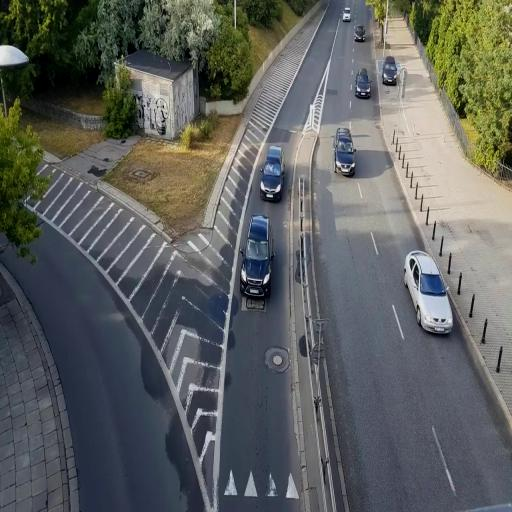vehicle: (403, 250, 453, 336), (241, 213, 272, 304), (334, 127, 356, 176), (355, 67, 372, 99), (382, 57, 398, 84), (354, 26, 366, 42)
